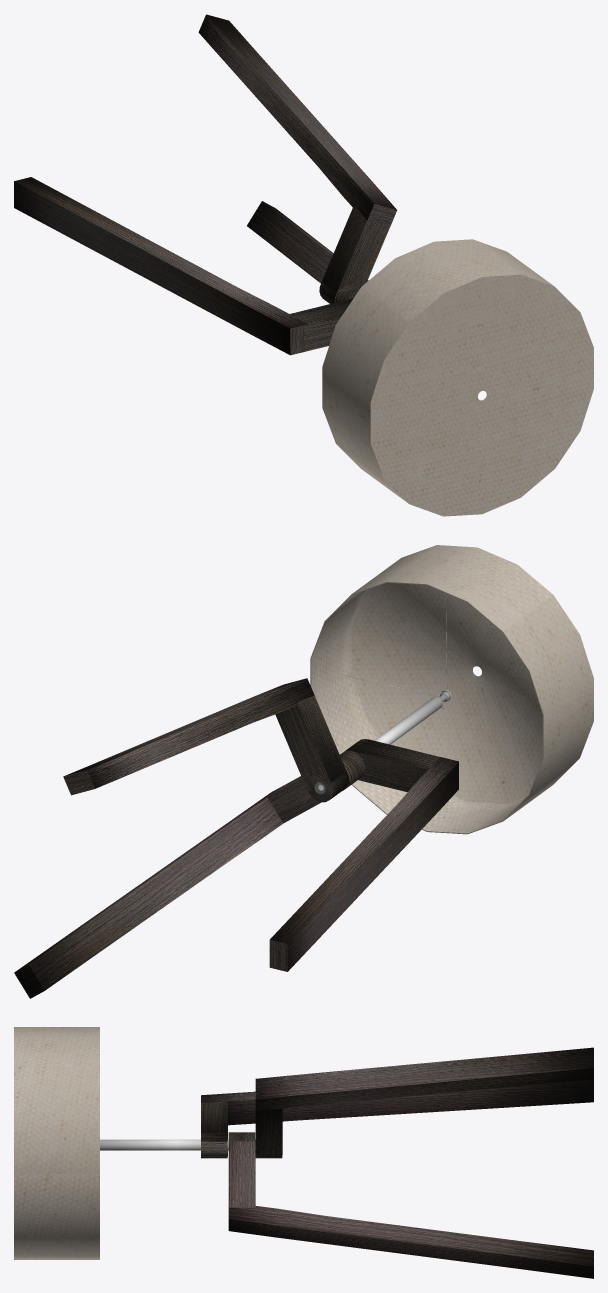
File: floorlamp.obj
The picture shows the model from 3 angles, top to bottom: view 1: azimuth 30°, elevation 25°; view 2: azimuth 150°, elevation 25°; view 3: azimuth 270°, elevation 25°; orthographic projection. The views are drawn at different scales.
Parts seen in each view (by area): view 1: Tube004, Tube003, Tube001, Box004; view 2: Tube004, Tube003, Box004, Tube001, Cylinder001; view 3: Tube004, Box004, Tube001, Tube003, Cylinder001.
Part boxes in pixels (x1,y1,x2,y2): Tube004: [322, 239, 593, 516]; Tube003: [14, 177, 353, 355]; Tube001: [198, 14, 397, 303]; Box004: [247, 201, 368, 302]; Tube004: [310, 545, 593, 834]; Tube003: [269, 739, 458, 971]; Box004: [14, 751, 365, 998]; Tube001: [63, 678, 348, 802]; Cylinder001: [315, 691, 450, 793]; Tube004: [14, 1027, 99, 1259]; Box004: [228, 1132, 593, 1278]; Tube001: [255, 1047, 593, 1158]; Tube003: [201, 1079, 593, 1158]; Cylinder001: [100, 1139, 228, 1150].
Bounding box in the file's own units: 21.51 × 19.59 × 46.17.
Materials: 3 (3 with a texture image).
